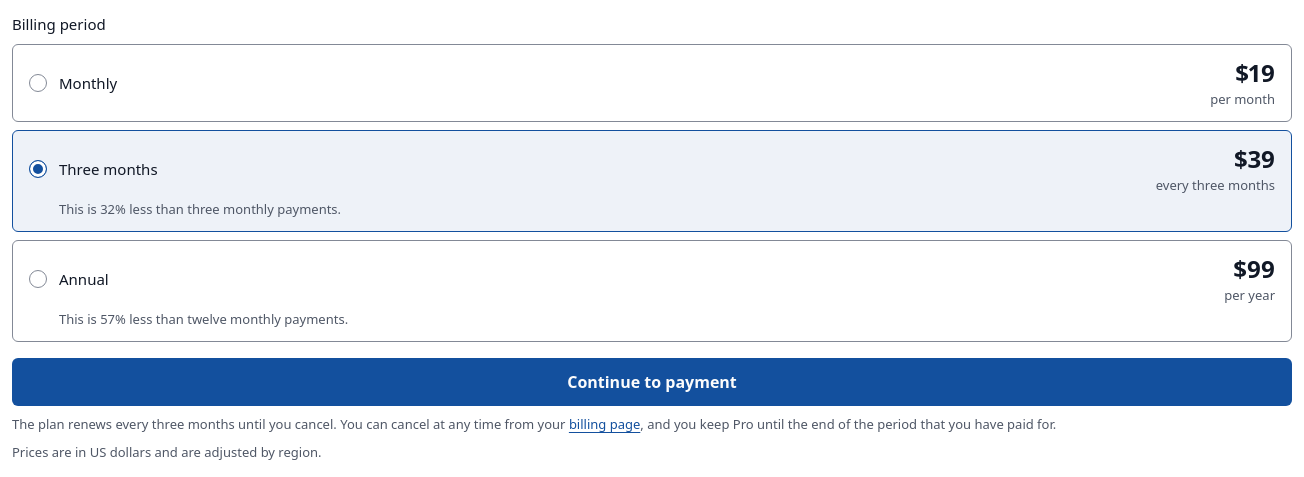
opening the payment page › asks for the chosen period, and counts the checkout only once there is a payment page
What coordinates should you click on to do the following:
click the radio button labelled "Annual"
I would click on:
 (38, 279)
Its box is [29,270,47,288].
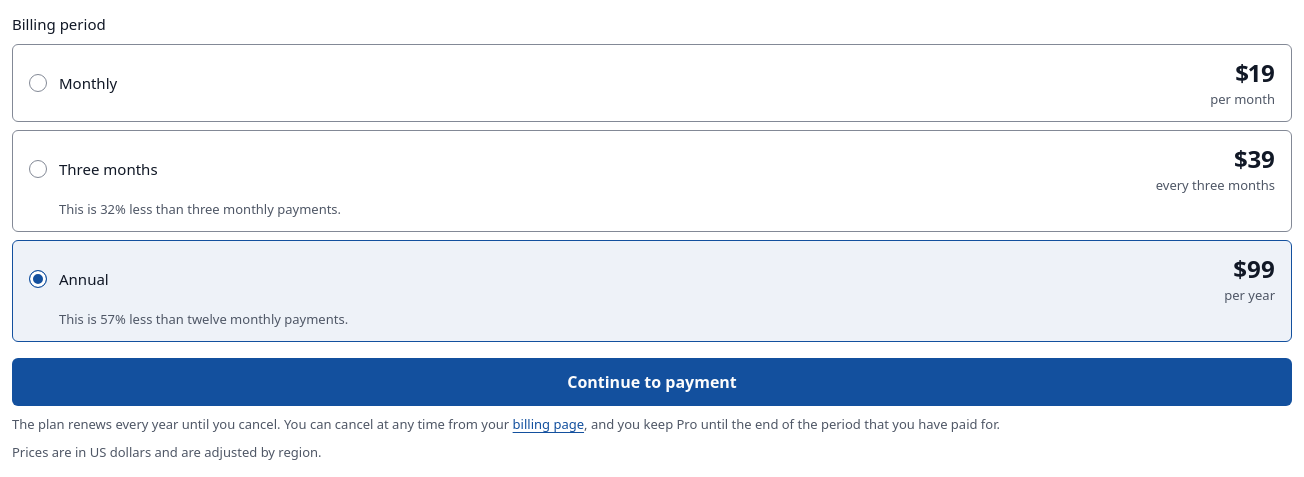
What coordinates should you click on to do the following:
click the button "Continue to payment"
I would click on:
 (652, 382)
Its box is [12,358,1292,406].
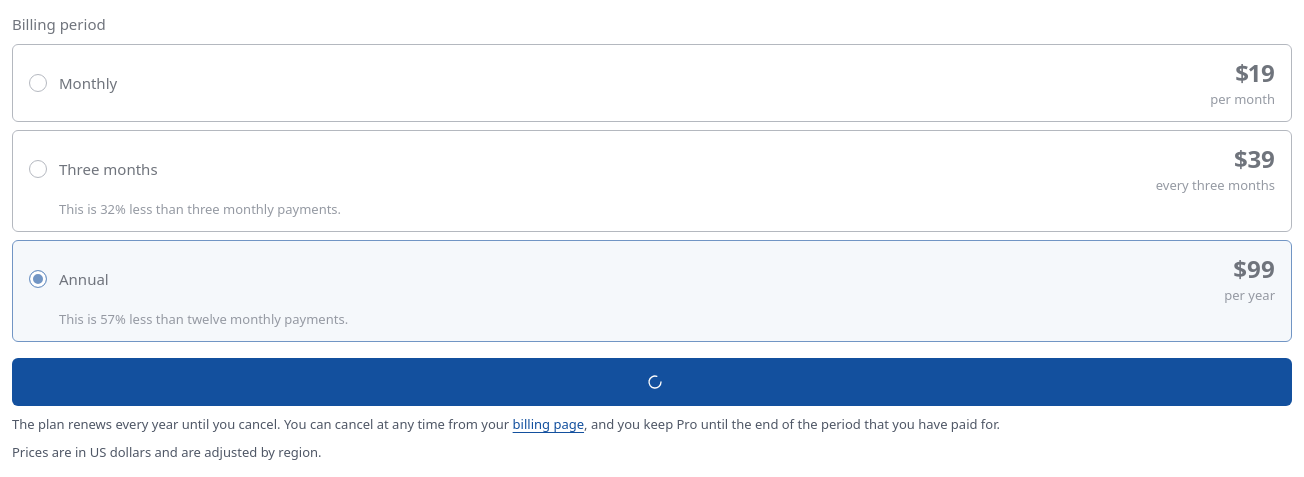
Now the element "Billing period" is disabled
